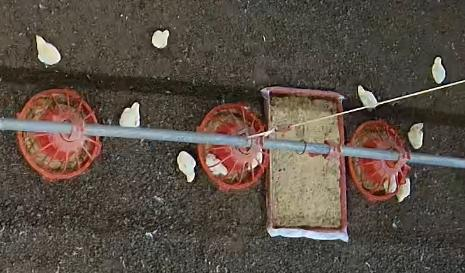chick: (34, 34, 60, 66), (176, 150, 198, 183), (203, 153, 230, 178), (120, 102, 141, 128), (357, 84, 377, 110), (408, 122, 425, 150), (247, 147, 264, 171), (150, 28, 170, 48), (432, 56, 447, 82), (396, 178, 410, 202), (384, 173, 396, 195)
rice: (262, 85, 348, 241), (13, 88, 102, 182), (196, 103, 268, 190), (348, 117, 410, 203)
